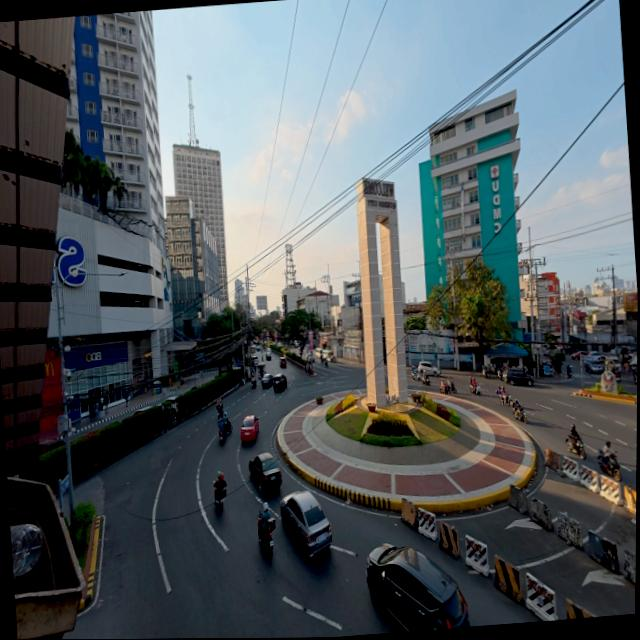Jeepneys: (315, 348, 332, 363), (257, 363, 264, 380)
car: (366, 544, 468, 631), (279, 492, 331, 557), (248, 452, 281, 492), (502, 368, 533, 386), (240, 415, 258, 441), (38, 439, 63, 454), (417, 361, 439, 377), (161, 396, 177, 415), (273, 374, 287, 392), (259, 372, 274, 388), (132, 405, 152, 416), (278, 357, 286, 368), (251, 355, 257, 366), (264, 350, 270, 360), (276, 342, 280, 347)
motorcycle: (257, 515, 274, 554), (597, 450, 619, 480), (565, 437, 585, 459), (218, 416, 231, 441), (213, 488, 225, 511), (512, 406, 526, 423), (482, 365, 496, 377), (498, 393, 510, 405), (446, 379, 455, 393), (469, 384, 480, 394), (421, 374, 429, 386), (440, 384, 448, 395), (566, 364, 572, 378), (411, 371, 419, 381), (496, 367, 502, 379), (251, 378, 257, 389), (324, 359, 327, 367)
